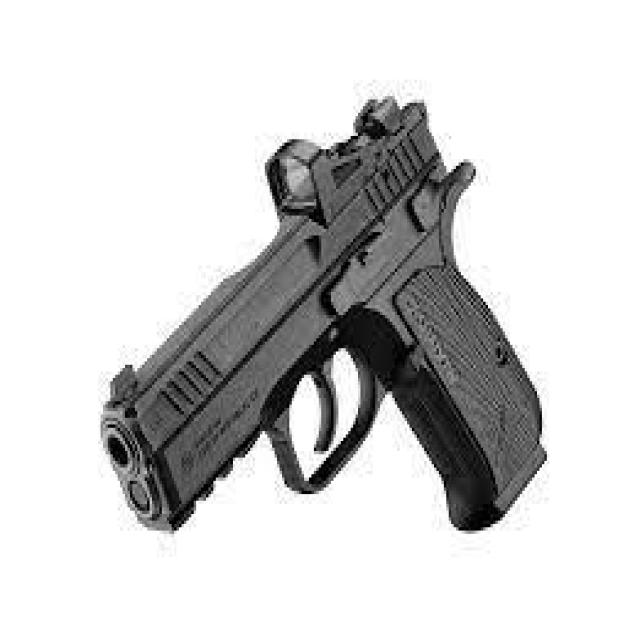gun: (101, 91, 551, 537)
